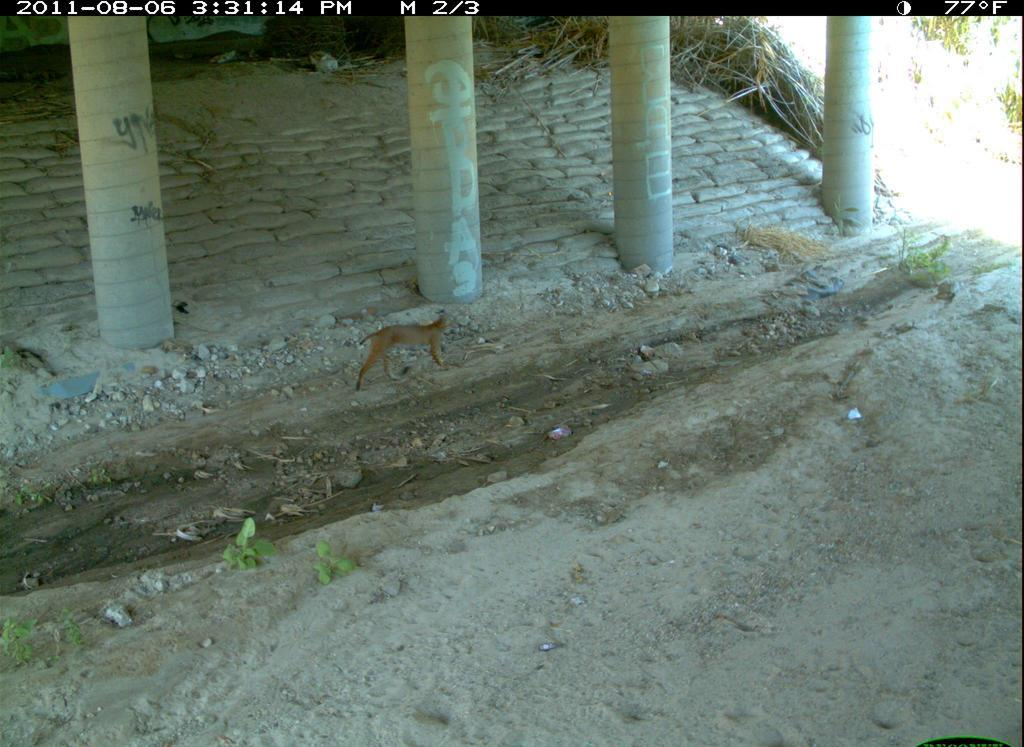bobcat: (697, 609, 928, 747)
